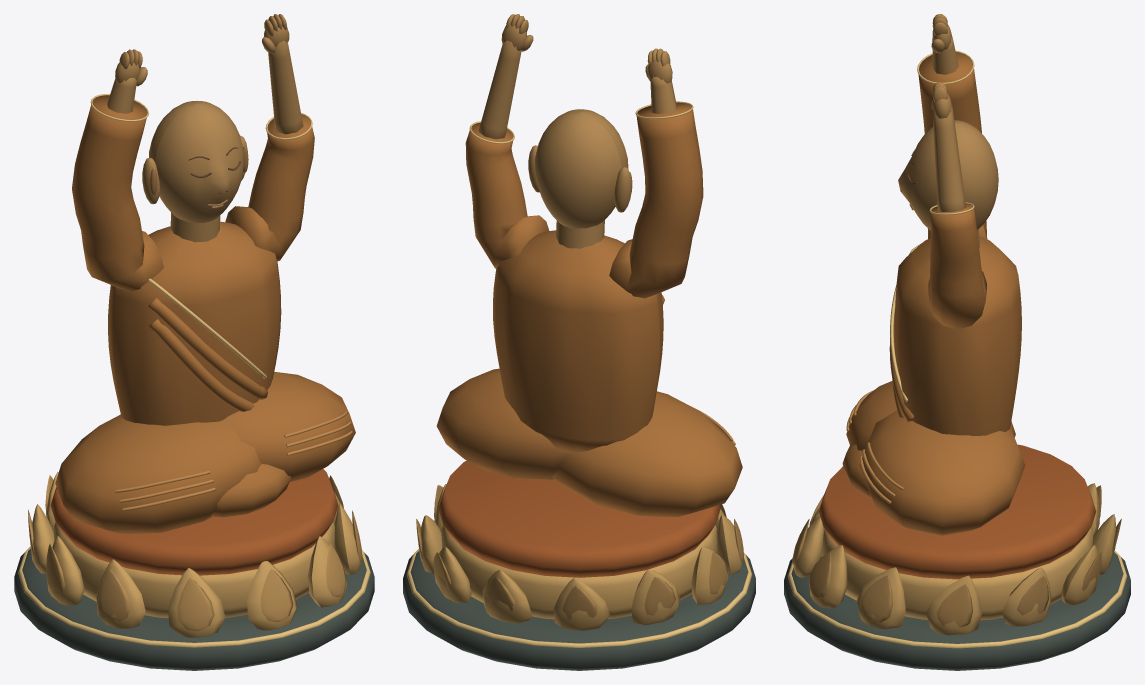
Rendered from arhat_17_lod1.glb.
3 renders of one model, left to right at view 1: azimuth 30°, elevation 25°; view 2: azimuth 150°, elevation 25°; view 3: azimuth 270°, elevation 25°, orthographic. The views are drawn at different scales.
Parts seen in each view (by area): view 1: arhat_17_ArhatDrapery, arhat_17_AntiqueGold, arhat_17_WarmBronze, arhat_17_CarvedPlinth, arhat_17_SaffronDrapery, arhat_17_GoldPetalRelief, arhat_17_RaisedGoldBorders, arhat_17_DraperyFoldHighlights; view 2: arhat_17_ArhatDrapery, arhat_17_SaffronDrapery, arhat_17_CarvedPlinth, arhat_17_WarmBronze, arhat_17_AntiqueGold, arhat_17_GoldPetalRelief, arhat_17_RaisedGoldBorders; view 3: arhat_17_ArhatDrapery, arhat_17_SaffronDrapery, arhat_17_CarvedPlinth, arhat_17_AntiqueGold, arhat_17_WarmBronze, arhat_17_GoldPetalRelief, arhat_17_RaisedGoldBorders, arhat_17_DraperyFoldHighlights.
Part boxes in pixels (box(x1,y1,x2,y2)): arhat_17_ArhatDrapery: box(55, 95, 355, 533); arhat_17_AntiqueGold: box(30, 472, 362, 637); arhat_17_WarmBronze: box(107, 14, 303, 242); arhat_17_CarvedPlinth: box(14, 548, 374, 670); arhat_17_SaffronDrapery: box(50, 469, 338, 575); arhat_17_GoldPetalRelief: box(28, 475, 362, 630); arhat_17_RaisedGoldBorders: box(18, 94, 370, 647); arhat_17_DraperyFoldHighlights: box(115, 411, 352, 511); arhat_17_ArhatDrapery: box(436, 102, 742, 516); arhat_17_SaffronDrapery: box(438, 460, 720, 577); arhat_17_CarvedPlinth: box(403, 551, 755, 670); arhat_17_WarmBronze: box(478, 14, 676, 248); arhat_17_AntiqueGold: box(418, 484, 744, 630); arhat_17_GoldPetalRelief: box(416, 485, 743, 619); arhat_17_RaisedGoldBorders: box(406, 101, 752, 647); arhat_17_ArhatDrapery: box(842, 52, 1025, 535); arhat_17_SaffronDrapery: box(819, 444, 1095, 579); arhat_17_CarvedPlinth: box(784, 552, 1130, 670); arhat_17_AntiqueGold: box(793, 483, 1116, 635); arhat_17_WarmBronze: box(898, 14, 998, 247); arhat_17_GoldPetalRelief: box(792, 485, 1121, 627); arhat_17_RaisedGoldBorders: box(787, 50, 1127, 648); arhat_17_DraperyFoldHighlights: box(846, 390, 903, 503).
Size of the model in its own units: 0.92 by 1.62 by 0.92.
